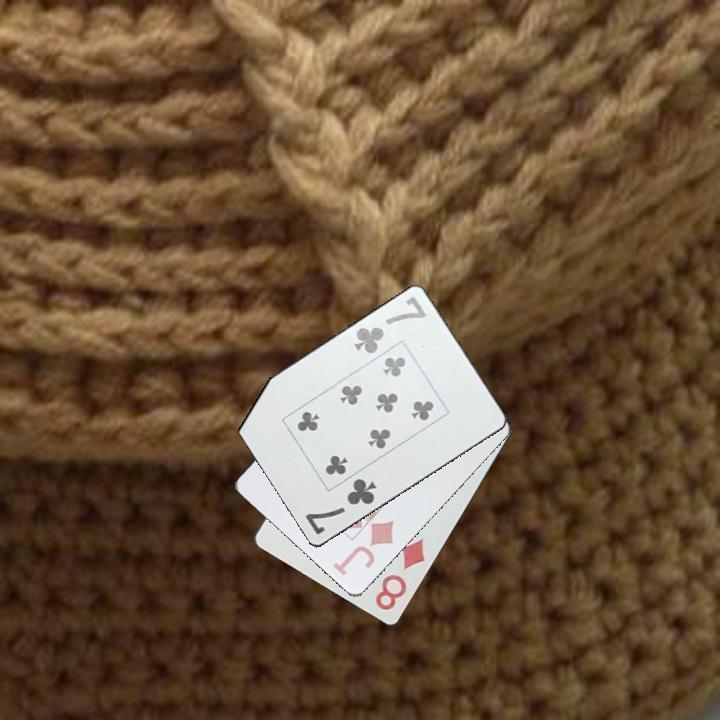7c: (301, 475, 380, 539), (350, 293, 429, 357)
8d: (371, 535, 428, 614)
Jd: (330, 517, 397, 579)
